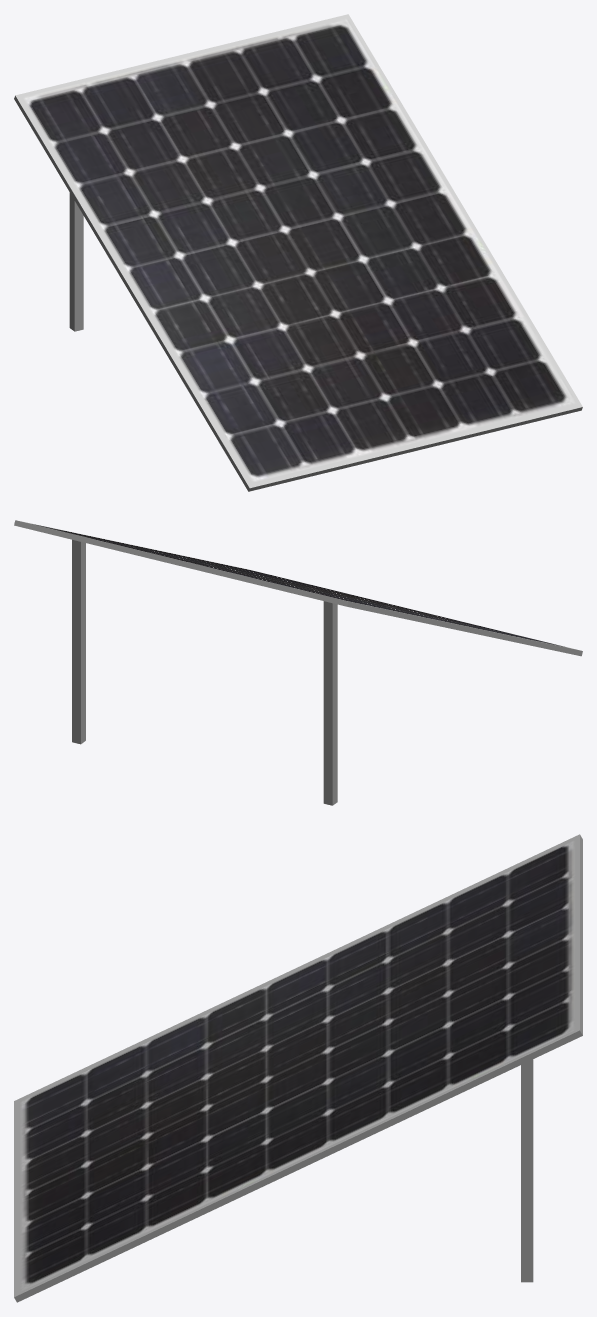
The model's file is placa_solar.FBX.
The picture shows the model from 3 angles, top to bottom: view 1: azimuth 30°, elevation 25°; view 2: azimuth 150°, elevation 25°; view 3: azimuth 270°, elevation 25°; orthographic projection. The views are drawn at different scales.
Visible parts, largest first — view 1: Box01, Box02; view 2: Box01, Box02, Box03; view 3: Box01, Box03.
Boxes of the visible parts, bbox=[...] form: Box01: bbox=[14, 14, 582, 491]; Box02: bbox=[69, 193, 83, 331]; Box01: bbox=[14, 520, 582, 656]; Box02: bbox=[323, 601, 337, 805]; Box03: bbox=[72, 539, 85, 744]; Box01: bbox=[14, 834, 582, 1302]; Box03: bbox=[521, 1059, 533, 1282].
Bounding box in the file's own units: 74.93 × 48.78 × 91.83.
2 materials, 1 textured.
